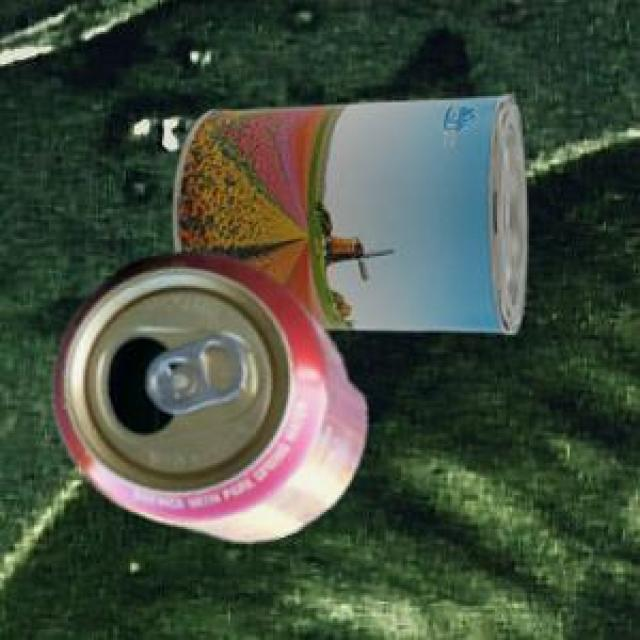logam: (50, 249, 364, 539), (170, 93, 524, 330)
